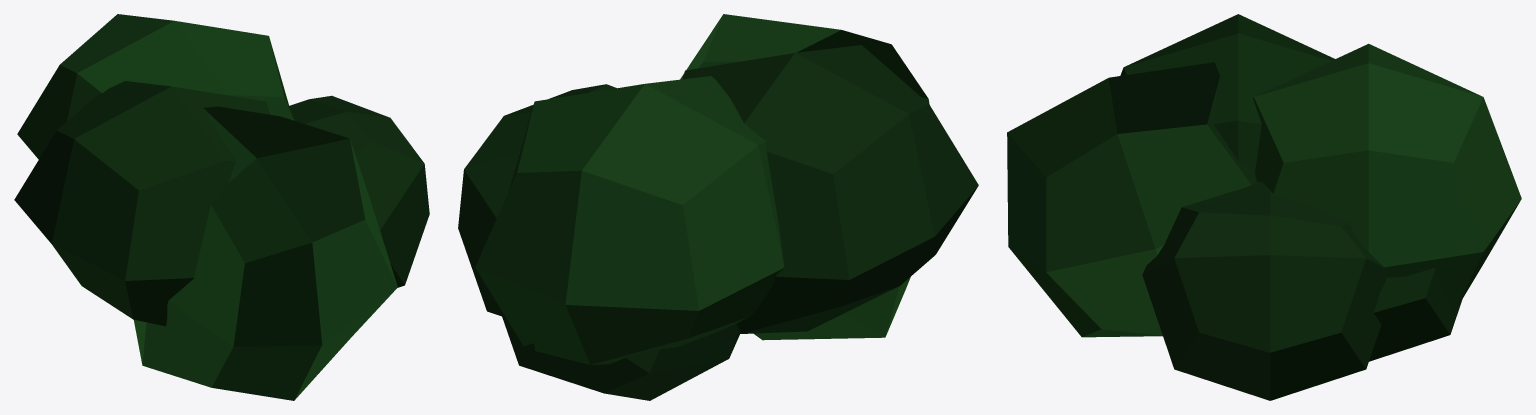
The model's file is socorro.FBX.
3 renders of one model, left to right at view 1: azimuth 30°, elevation 25°; view 2: azimuth 150°, elevation 25°; view 3: azimuth 270°, elevation 25°, orthographic. The views are drawn at different scales.
Visible parts, largest first — view 1: Cube_004; view 2: Cube_004; view 3: Cube_004.
Boxes of the visible parts, x1,y1,x2,y2 form: Cube_004: [14, 14, 429, 400]; Cube_004: [458, 14, 978, 400]; Cube_004: [1007, 14, 1521, 400].
Bounding box in the file's own units: 4.84 × 3.31 × 5.37.
